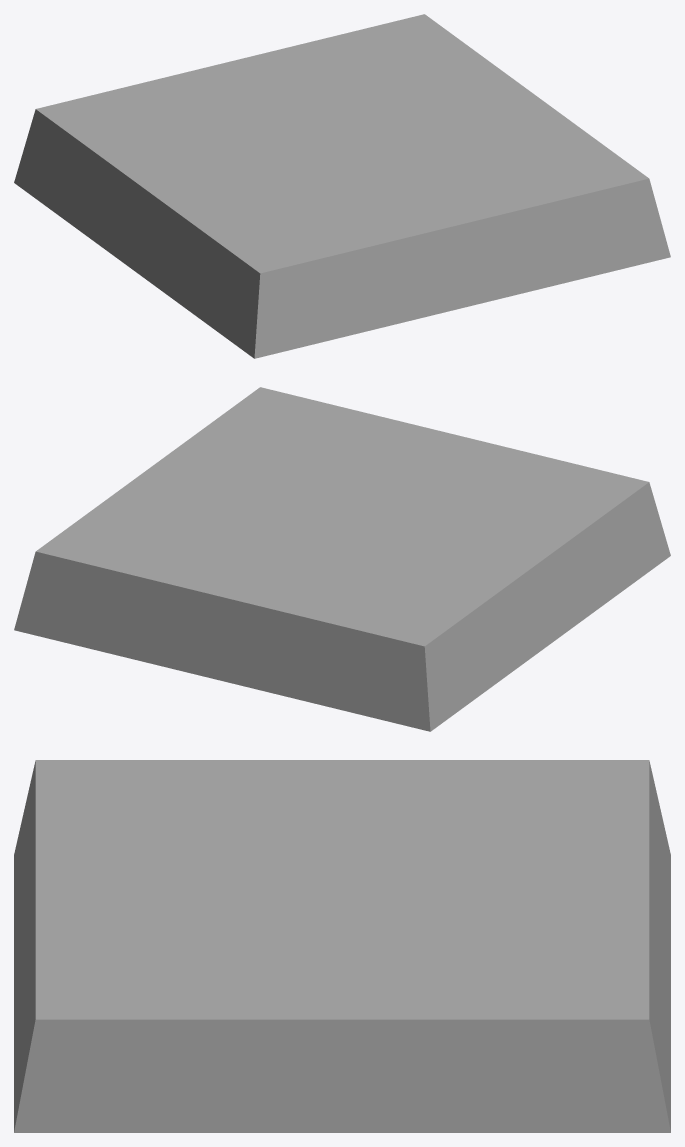
The model's file is Rock_Tile_m_01.fbx.
3 renders of one model, top to bottom at view 1: azimuth 30°, elevation 25°; view 2: azimuth 150°, elevation 25°; view 3: azimuth 270°, elevation 25°, orthographic. The views are drawn at different scales.
Parts seen in each view (by area): view 1: Rock_Tile_m_01; view 2: Rock_Tile_m_01; view 3: Rock_Tile_m_01.
Boxes of the visible parts, x1,y1,x2,y2 form: Rock_Tile_m_01: [14, 14, 670, 358]; Rock_Tile_m_01: [14, 387, 670, 731]; Rock_Tile_m_01: [14, 760, 670, 1132].
Bounding box in the file's own units: 40 × 7 × 40.
